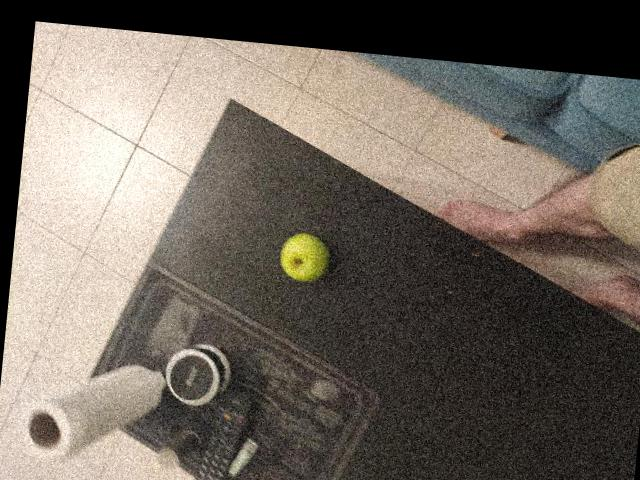apple: (191, 166, 278, 266)
